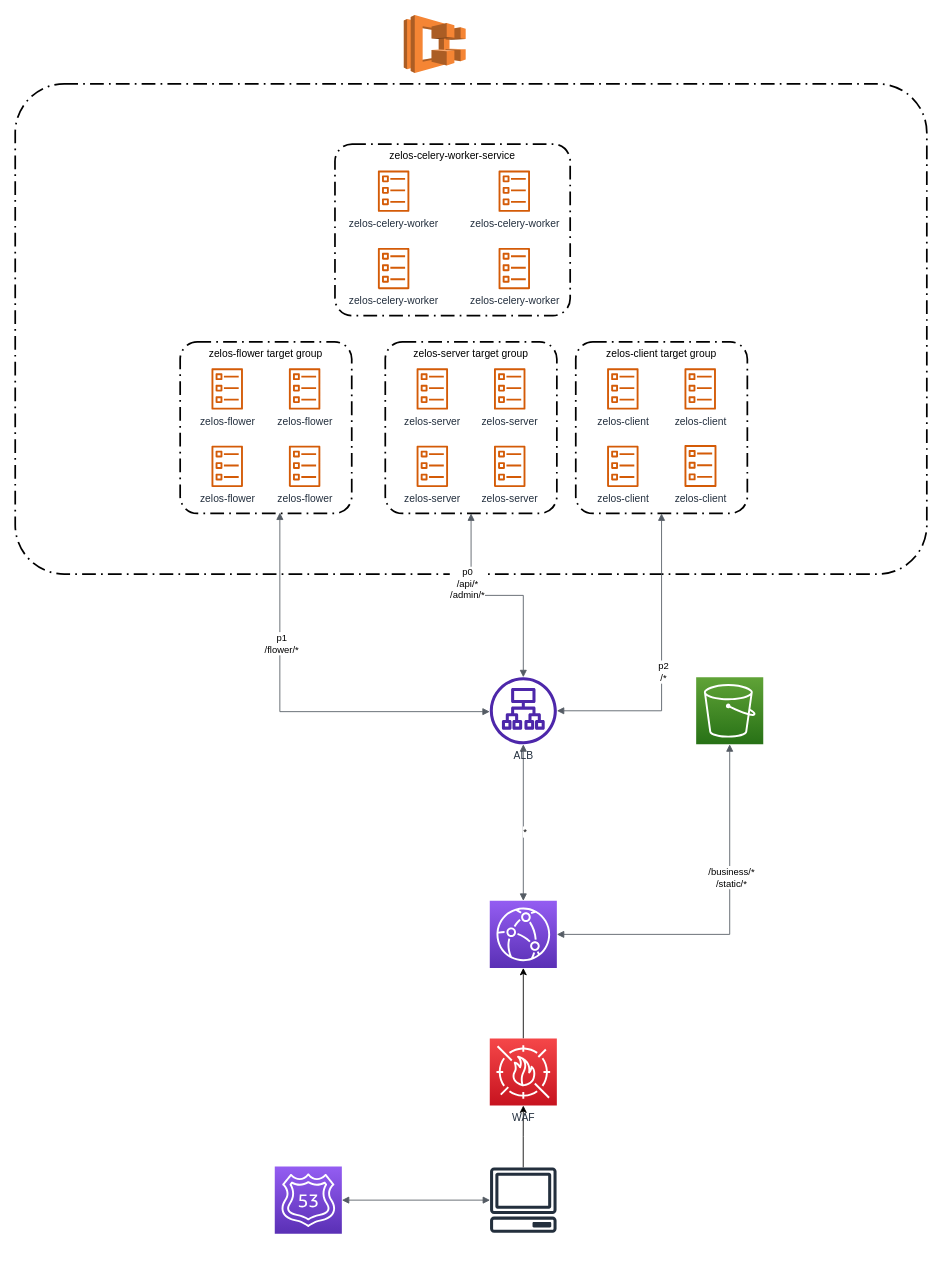
Image size: 943x1267. Some labels were removed from this diagram. Here are the shapes that lost their labels. From the top down, the box of each, then its label:
(489, 900, 557, 968): CloudFront
(274, 1166, 342, 1234): DNS
